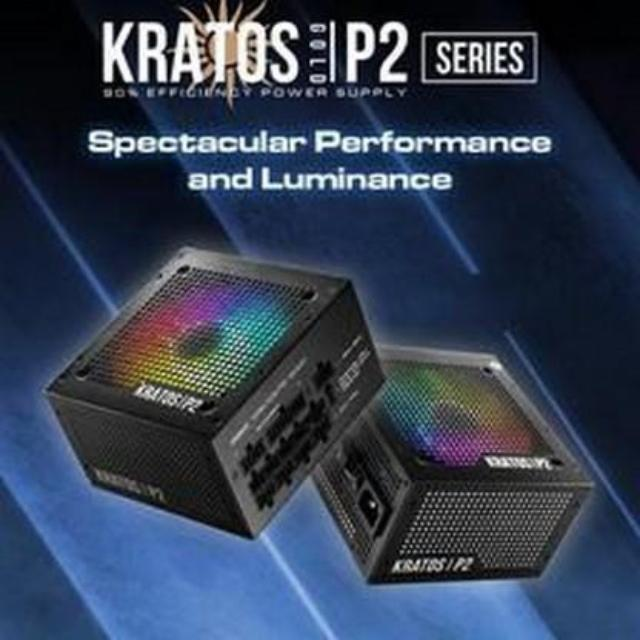PSU: (47, 241, 385, 548), (307, 339, 595, 590)
